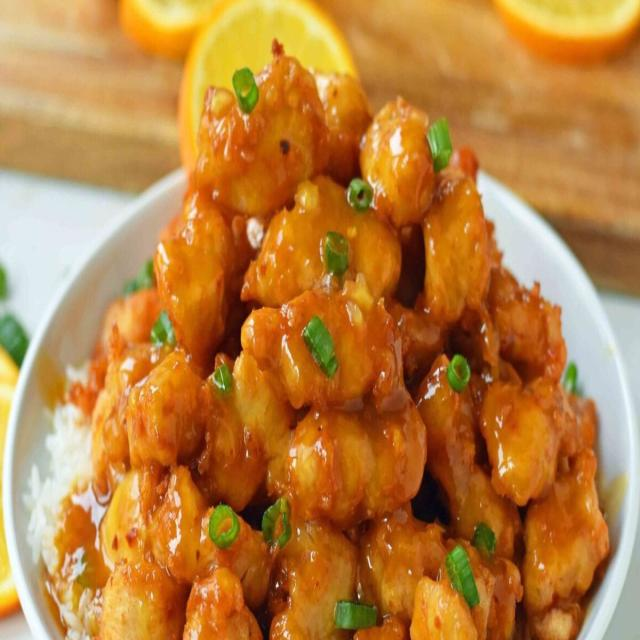garbanzos: (83, 62, 607, 634)
